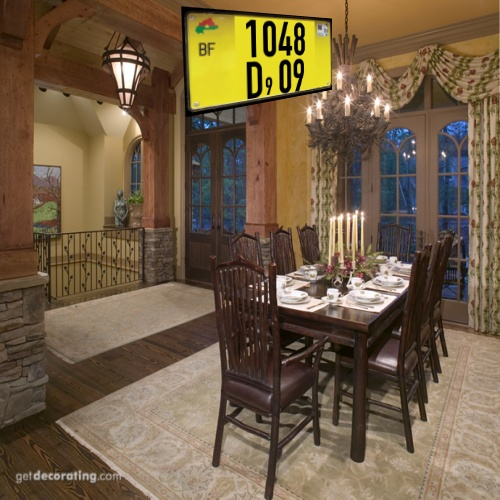plate: (172, 7, 351, 119)
